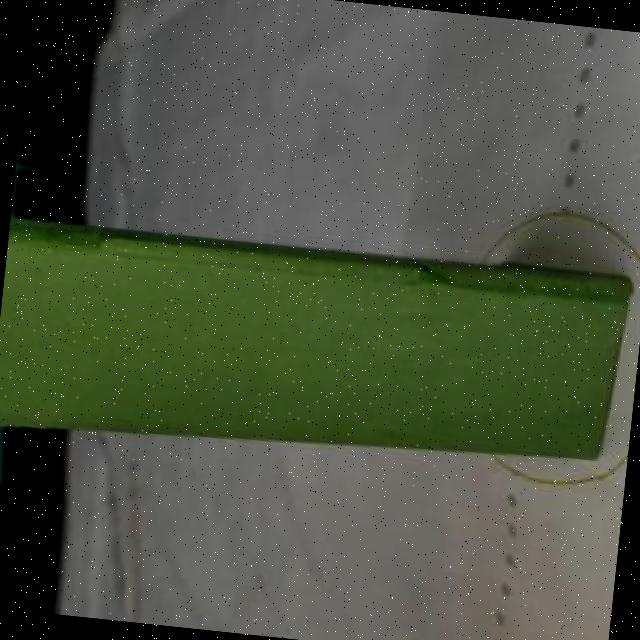greenbox: (0, 212, 627, 490)
